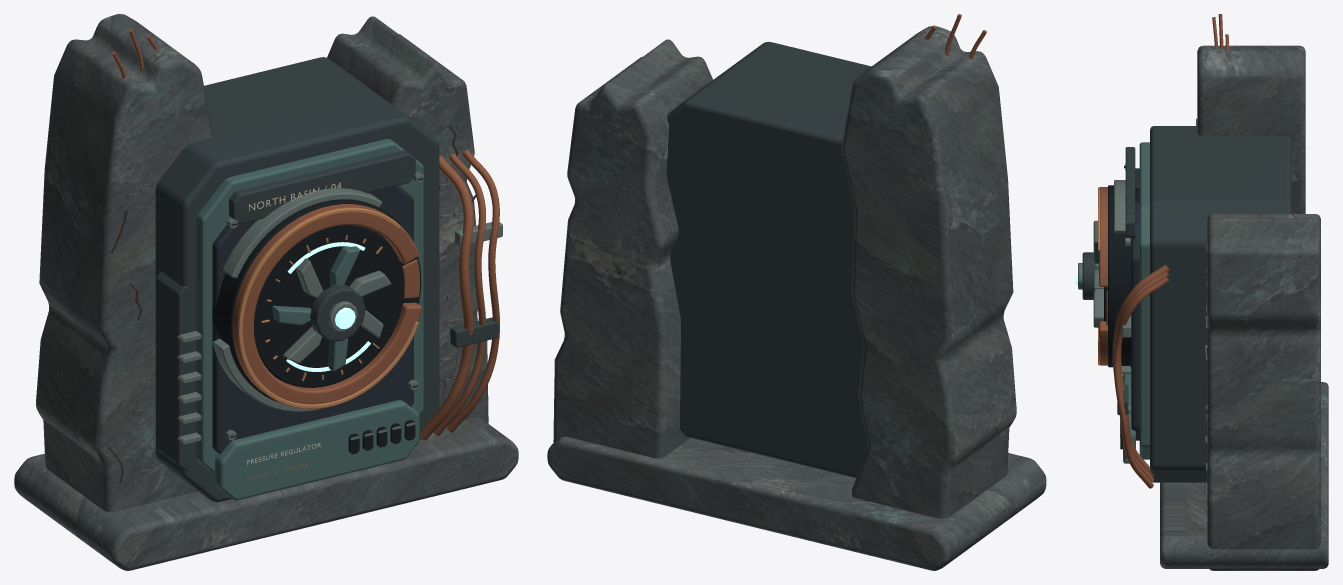
Rendered from ridge_hero.glb.
The picture shows the model from 3 angles, left to right: view 1: azimuth 30°, elevation 25°; view 2: azimuth 150°, elevation 25°; view 3: azimuth 270°, elevation 25°; orthographic projection. The views are drawn at different scales.
Parts seen in each view (by area): view 1: Basin Relay; view 2: Basin Relay; view 3: Basin Relay.
Boxes of the visible parts, <box> form: Basin Relay: <box>14,14,518,570</box>; Basin Relay: <box>547,14,1046,570</box>; Basin Relay: <box>1075,14,1328,570</box>.
Bounding box in the file's own units: 3.04 × 3.63 × 1.99.
16 materials, 5 textured.
